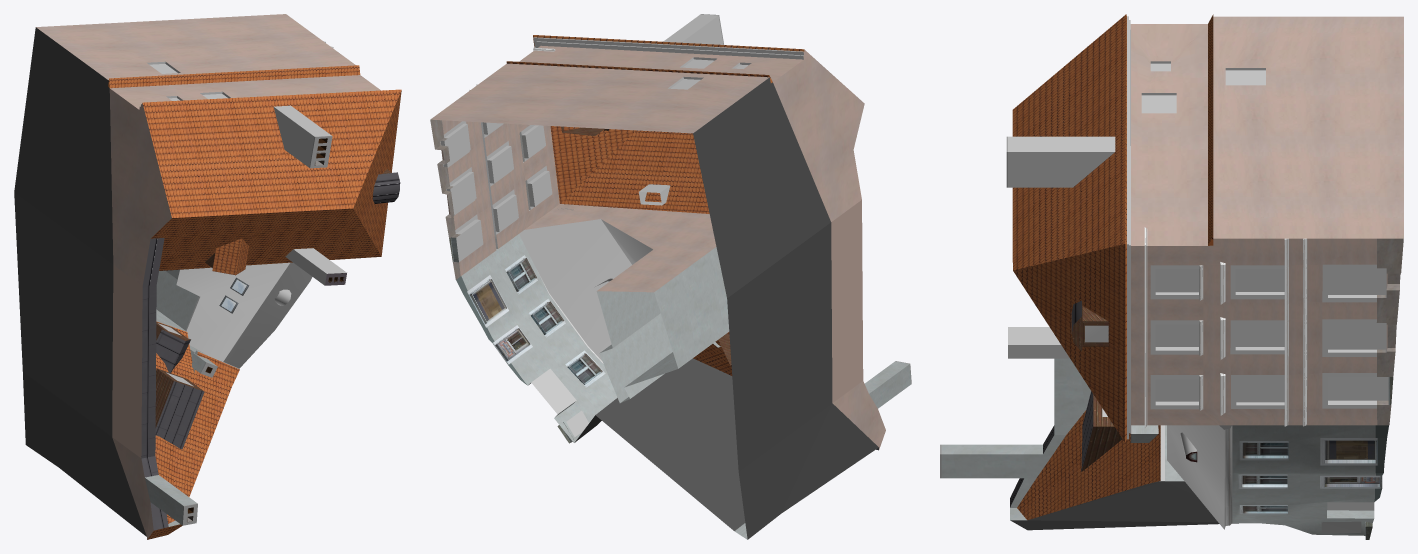
The model's file is Nunne-1.obj.
3 views of the same model, side by side, from view 1: azimuth 30°, elevation 25°; view 2: azimuth 150°, elevation 25°; view 3: azimuth 270°, elevation 25° (orthographic). The views are drawn at different scales.
Visible parts, largest first — view 1: N1_Building01; view 2: N1_Building01; view 3: N1_Building01.
Boxes of the visible parts, x1,y1,x2,y2 form: N1_Building01: [14, 14, 401, 539]; N1_Building01: [430, 14, 911, 539]; N1_Building01: [940, 14, 1403, 539].
Size of the model in its own units: 19.61 by 25.76 by 20.65.
